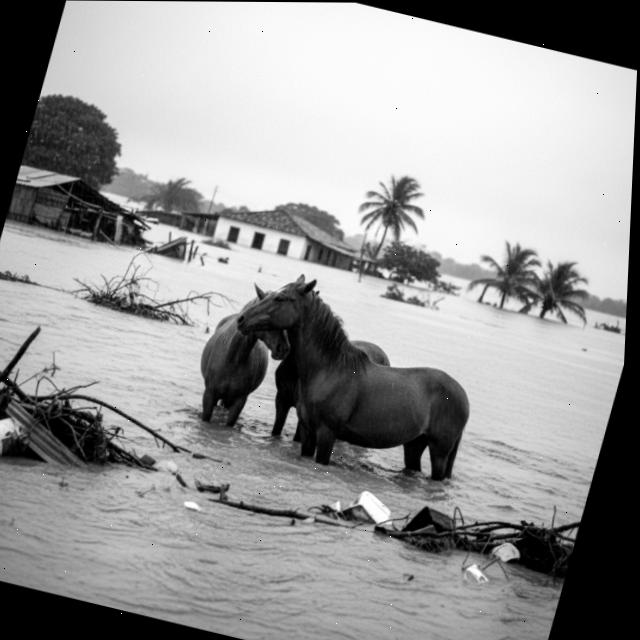horse: (197, 267, 510, 496), (209, 270, 416, 468), (175, 269, 296, 443)
